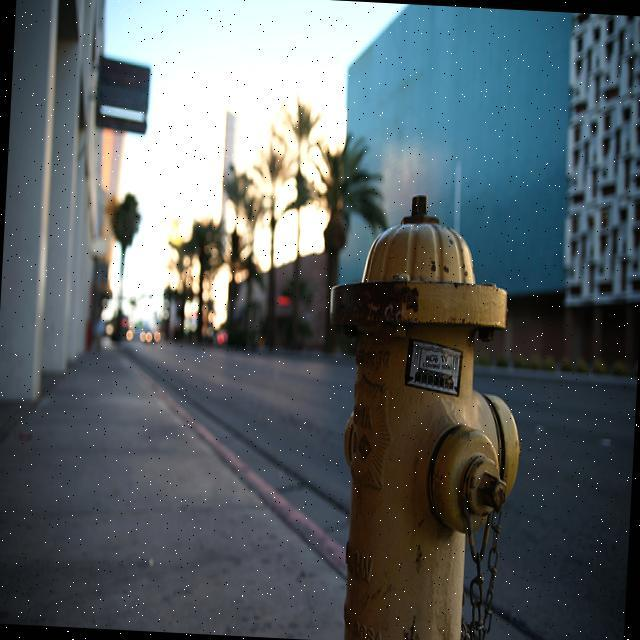fire_hydrant: (308, 186, 533, 640)
